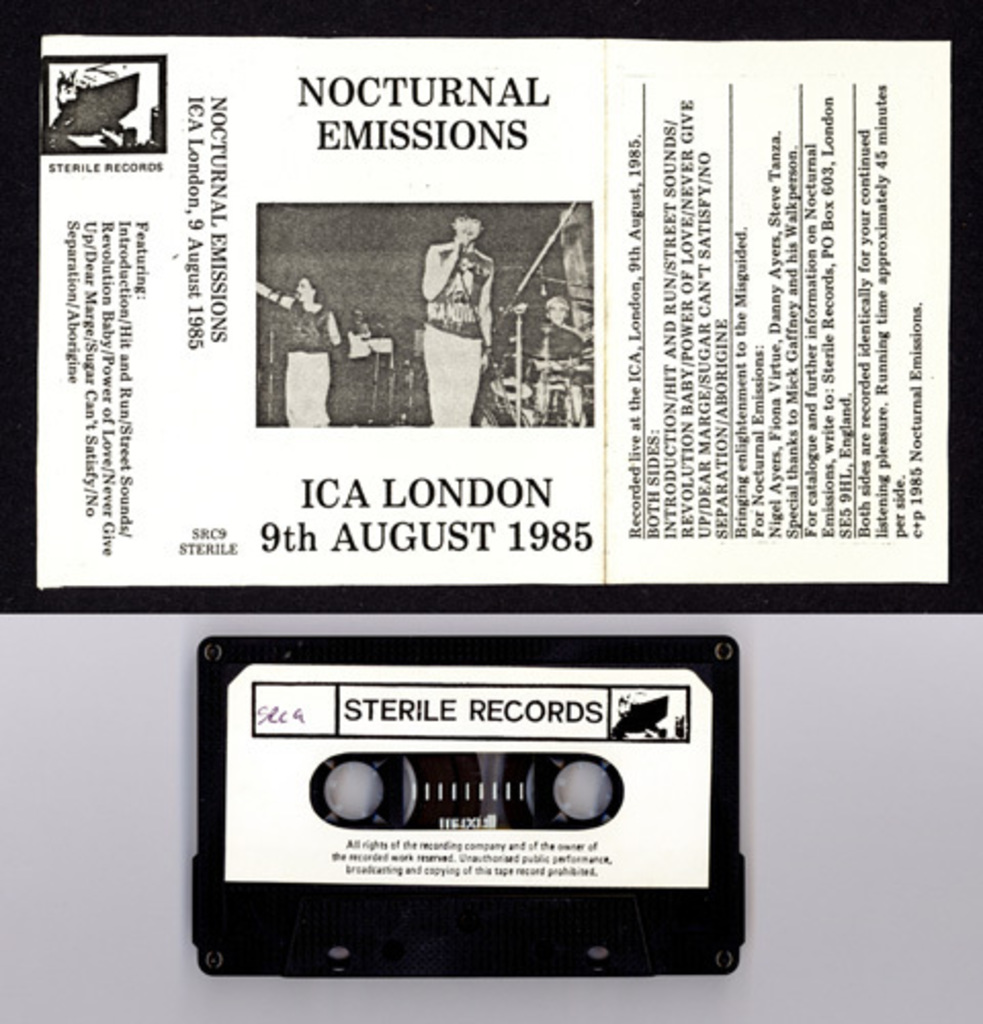person: (255, 273, 343, 427)
